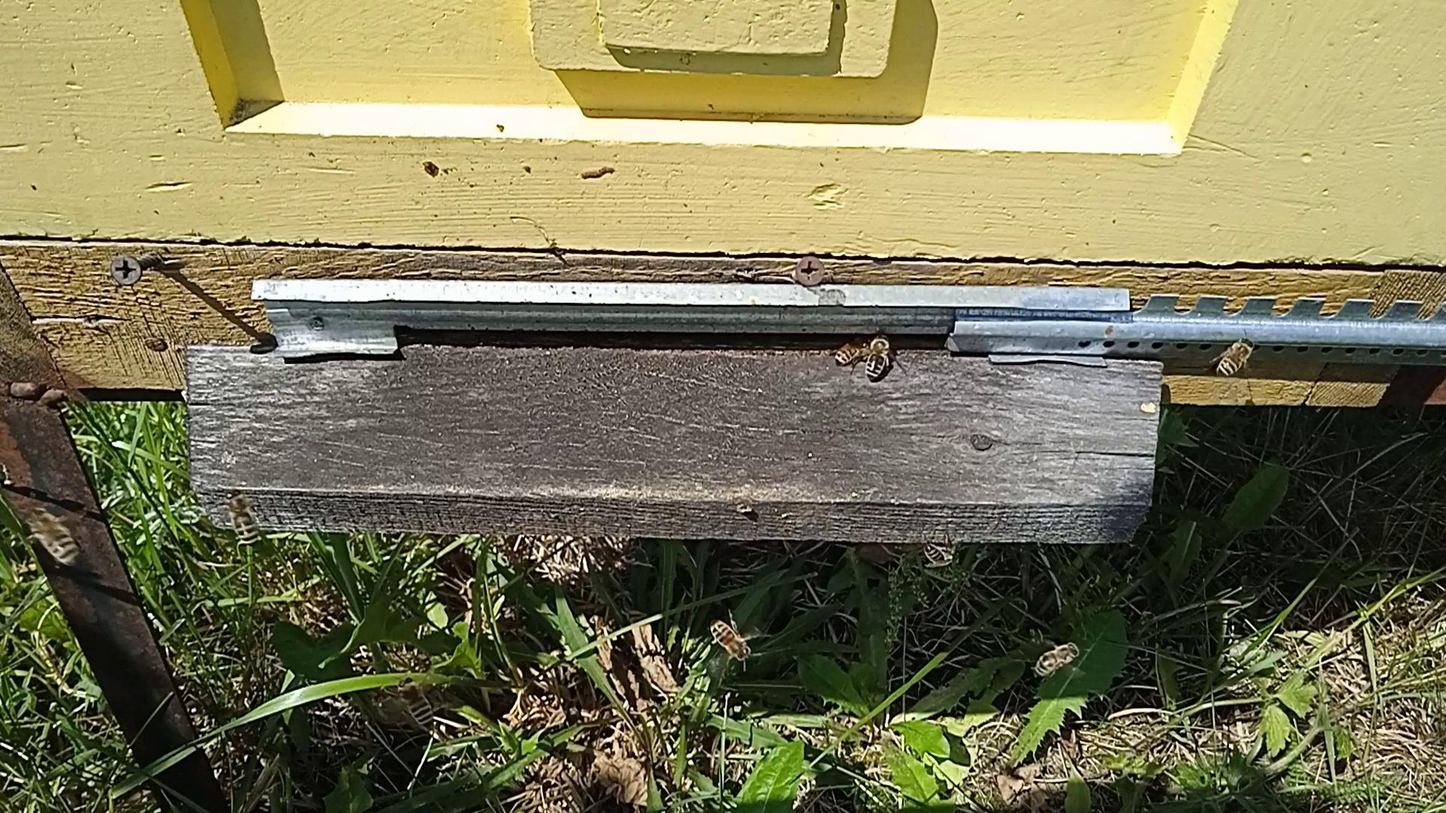worker-bee: (24, 505, 83, 568), (221, 489, 261, 545), (397, 677, 437, 729), (708, 618, 752, 660), (1034, 642, 1080, 677), (1215, 337, 1256, 376), (862, 333, 894, 381), (833, 336, 868, 366), (923, 541, 957, 568)
